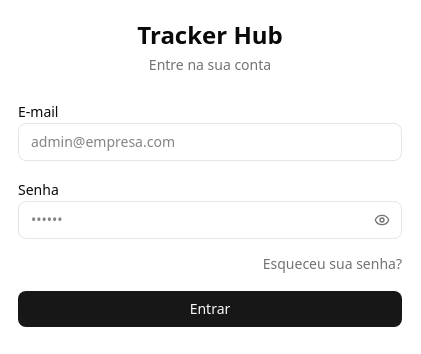
Scenario: Fluxo de login › login falho â†’ permanece na pÃ¡gina de login
The image size is (421, 354).
Type "admin@test.com" into the field labelled "E-mail". click: (210, 142)
box: 18,123 -> 402,161
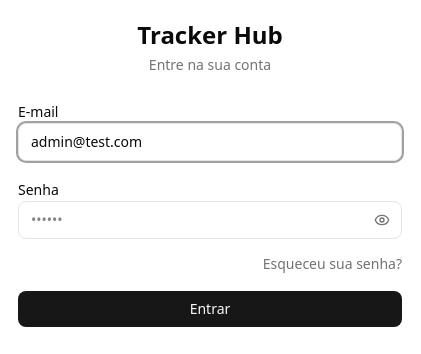
Type "senhaerrada" into the password field labelled "Senha". click: (210, 220)
box: 18,201 -> 402,239
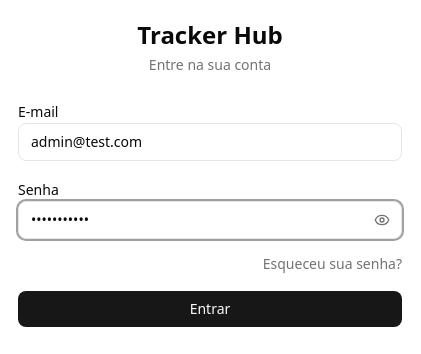
Click the button "Entrar". click: (210, 309)
box: 18,291 -> 402,327
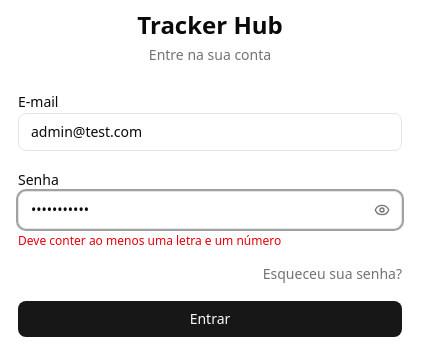
expect the button "Entrar" is shown: met, box 18,301 -> 402,337
expect the message "Deve conter ao menos uma letra e um número" is shown: met, box 18,232 -> 281,249
